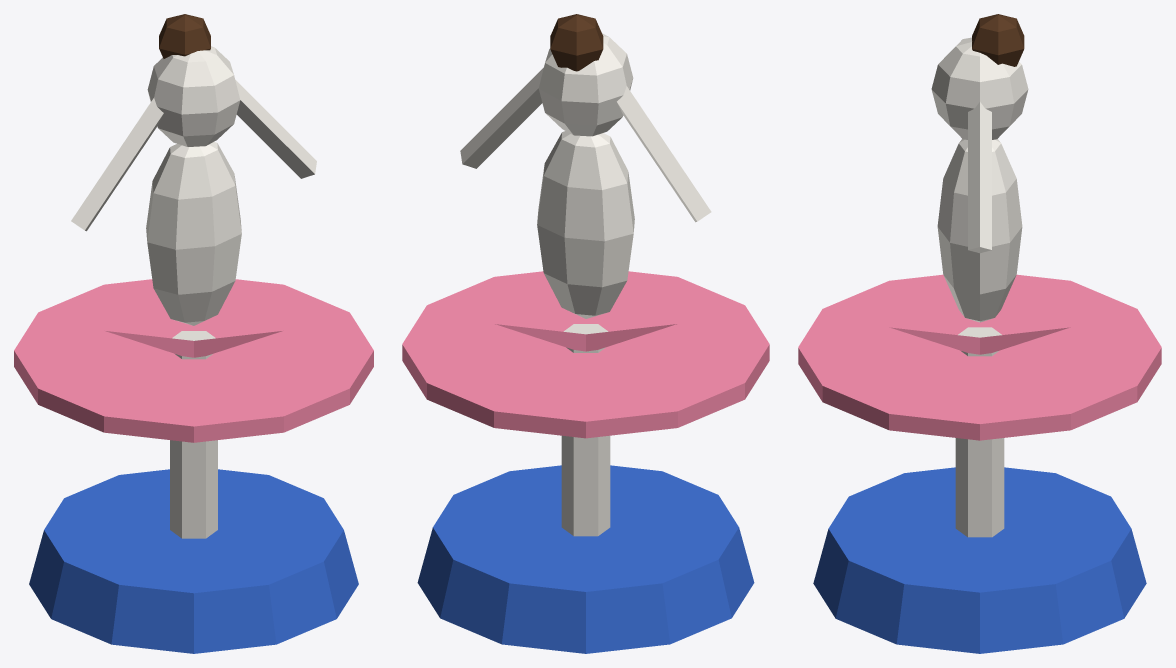
Rendered from ornament_ballerina.glb.
3 renders of one model, left to right at view 1: azimuth 30°, elevation 25°; view 2: azimuth 150°, elevation 25°; view 3: azimuth 270°, elevation 25°, orthographic. The views are drawn at different scales.
Visible parts, largest first — view 1: base_porcelain_blue, body_porcelain_pink, body_porcelain, body_hair_bun; view 2: base_porcelain_blue, body_porcelain_pink, body_porcelain, body_hair_bun; view 3: base_porcelain_blue, body_porcelain_pink, body_porcelain, body_hair_bun.
Part boxes in pixels (box(x1,y1,x2,y2)): base_porcelain_blue: box(29, 469, 358, 653); body_porcelain_pink: box(14, 279, 373, 442); body_porcelain: box(71, 46, 316, 538); body_hair_bun: box(159, 14, 210, 58); base_porcelain_blue: box(417, 465, 754, 653); body_porcelain_pink: box(402, 271, 769, 438); body_porcelain: box(460, 33, 711, 536); body_hair_bun: box(550, 14, 603, 71); base_porcelain_blue: box(813, 467, 1146, 653); body_porcelain_pink: box(798, 274, 1161, 440); body_porcelain: box(931, 37, 1028, 537); body_hair_bun: box(972, 14, 1024, 66).
Size of the model in its own units: 0.12 by 0.207 by 0.12.
